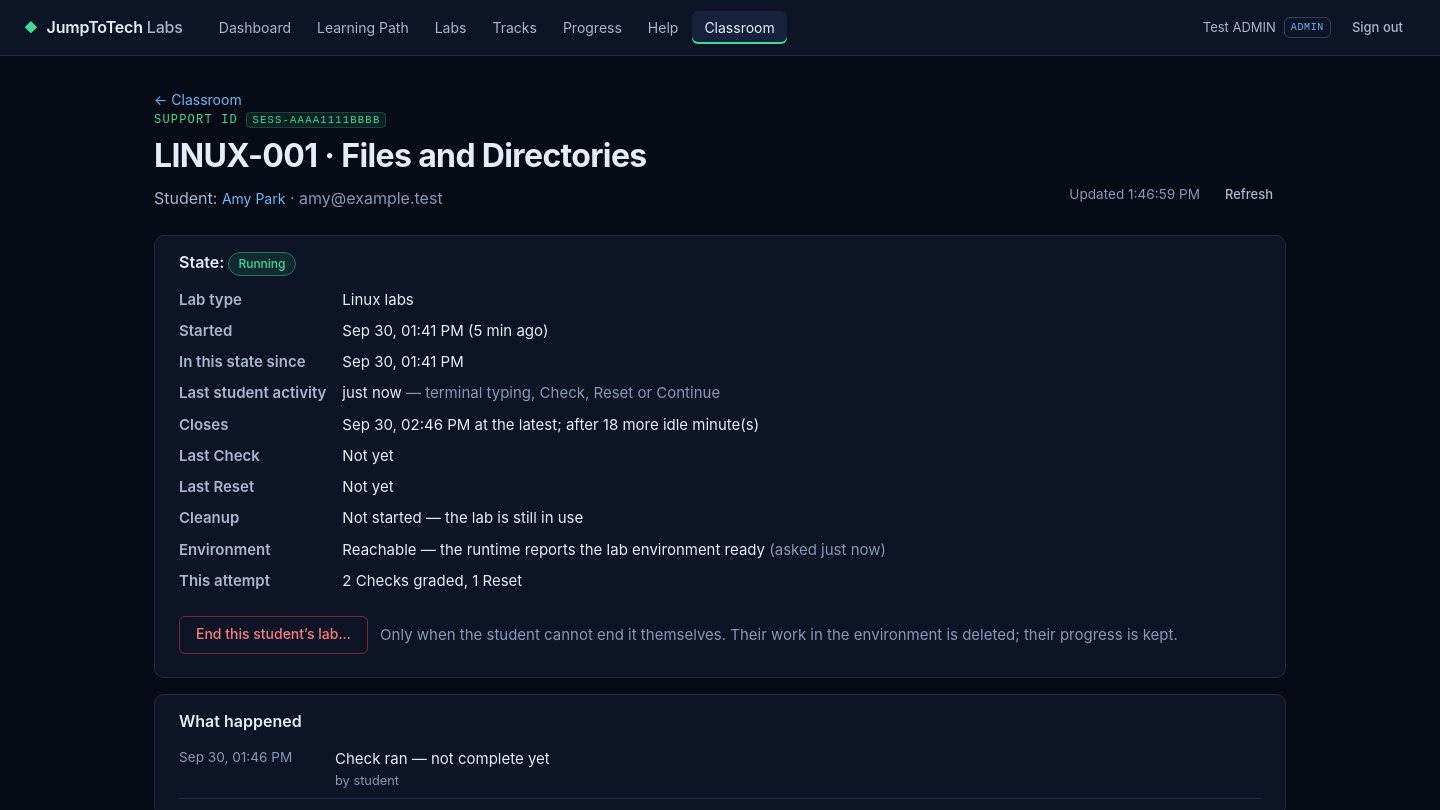
Test: one lab › an administrator ends it only after a confirmation that names the student, lab and Support ID
Step 1. Click the button "End this student’s lab…" → (274, 635), box [179, 616, 368, 654]
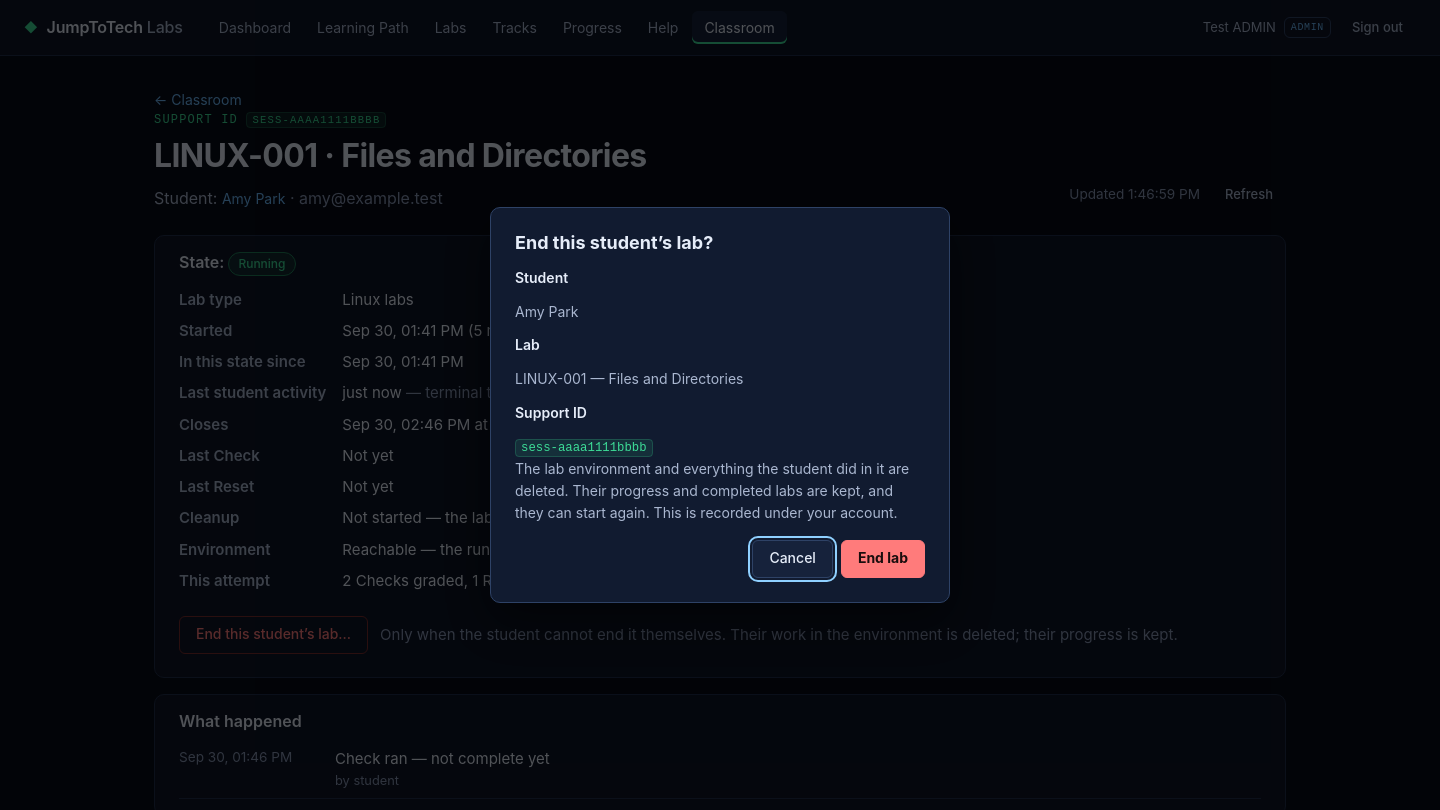
Now the text "Amy Park" is shown, box [515, 303, 578, 320]
Now the text "LINUX-001 — Files and Directories" is shown, box [515, 370, 744, 387]
Now the text "sess-aaaa1111bbbb" is shown, box [515, 439, 653, 457]
Step 2. Click the button "End lab" → (883, 558), box [841, 540, 925, 578]
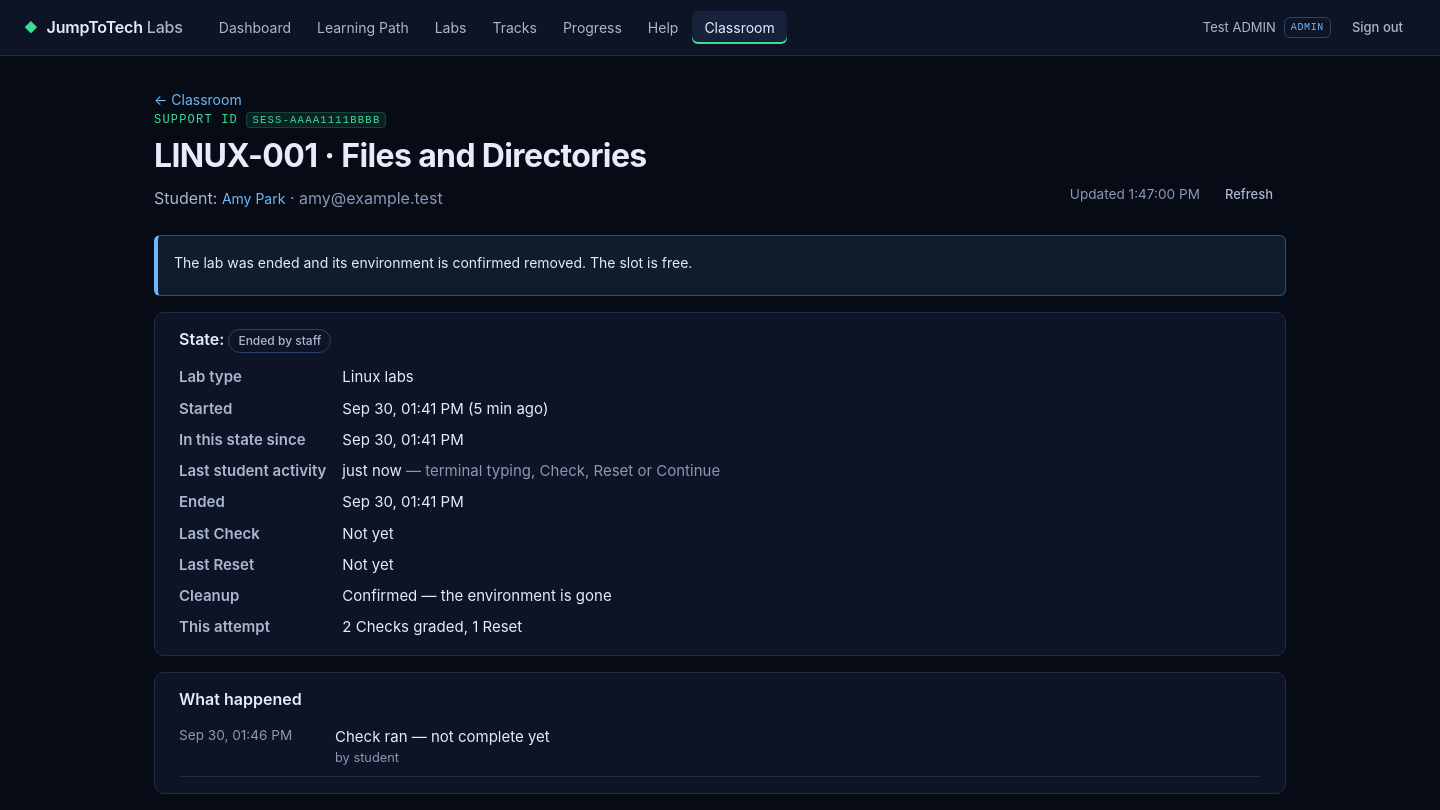
Now the text "confirmed removed. The slot is free" is shown, box [174, 254, 692, 271]
Now the text "Ended by staff" is shown, box [228, 329, 331, 353]
Now the button "End this student’s lab" is gone
